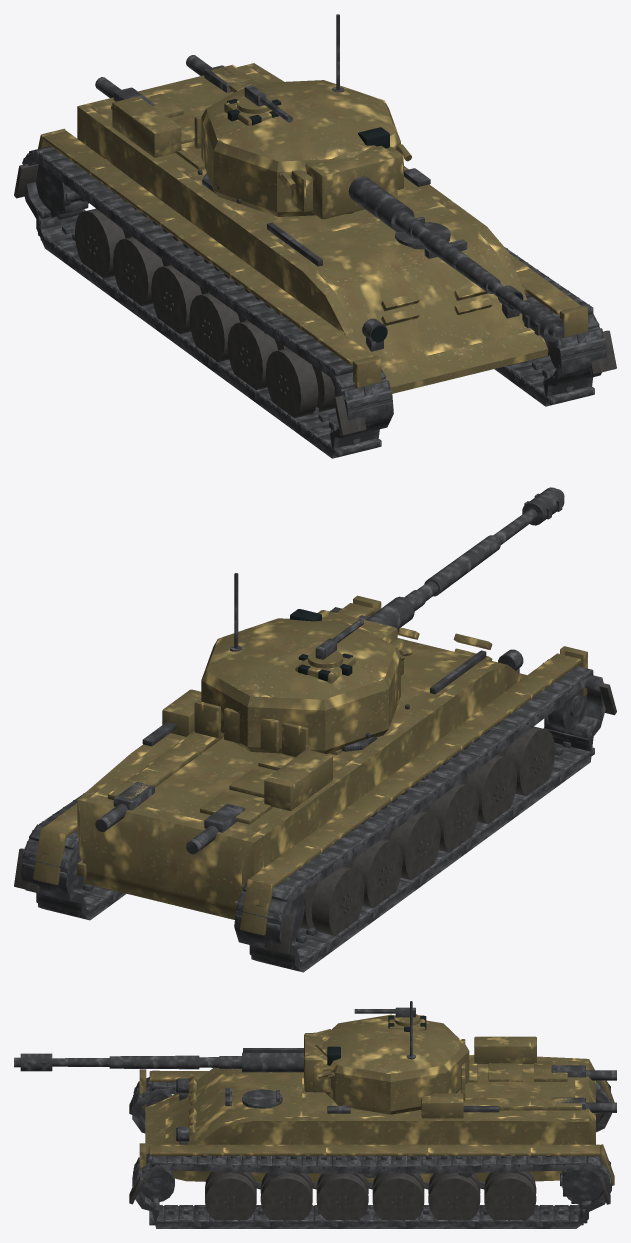
The picture shows the model from 3 angles, top to bottom: view 1: azimuth 30°, elevation 25°; view 2: azimuth 150°, elevation 25°; view 3: azimuth 270°, elevation 25°; orthographic projection. The views are drawn at different scales.
Parts seen in each view (by area): view 1: mt, mt_hull_details, mt_turret, mt_link1, mt_track1, mt_turret_armor, mt_gun, mt_wheel1_5, mt_hull_metal, mt_link-1, mt_track-1, mt_wheel1_4 (+10 smaller); view 2: mt, mt_hull_details, mt_turret, mt_link1, mt_track1, mt_turret_armor, mt_hull_metal, mt_gun, mt_wheel1_0, mt_wheel1_1, mt_wheel1_5, mt_wheel1_2 (+9 smaller); view 3: mt, mt_hull_details, mt_turret, mt_link-1, mt_track-1, mt_gun, mt_hull_metal, mt_wheel-1_0, mt_wheel-1_5, mt_wheel-1_2, mt_wheel-1_3, mt_wheel-1_1 (+11 smaller).
Boxes of the visible parts, left/top/right/bottom form: mt: left=77, top=63, right=548, bottom=393; mt_hull_details: left=38, top=64, right=587, bottom=387; mt_turret: left=201, top=80, right=400, bottom=216; mt_link1: left=22, top=146, right=392, bottom=457; mt_track1: left=22, top=152, right=393, bottom=458; mt_turret_armor: left=194, top=96, right=411, bottom=219; mt_gun: left=348, top=176, right=528, bottom=314; mt_wheel1_5: left=265, top=348, right=334, bottom=417; mt_hull_metal: left=95, top=55, right=467, bottom=266; mt_link-1: left=503, top=247, right=606, bottom=405; mt_track-1: left=494, top=251, right=606, bottom=406; mt_wheel1_4: left=227, top=320, right=287, bottom=389; mt: left=77, top=638, right=526, bottom=919; mt_hull_details: left=33, top=595, right=587, bottom=935; mt_turret: left=201, top=618, right=400, bottom=754; mt_link1: left=235, top=659, right=604, bottom=970; mt_track1: left=234, top=673, right=605, bottom=972; mt_turret_armor: left=194, top=610, right=411, bottom=756; mt_hull_metal: left=95, top=615, right=486, bottom=854; mt_gun: left=366, top=509, right=537, bottom=629; mt_wheel1_0: left=301, top=866, right=364, bottom=935; mt_wheel1_1: left=343, top=838, right=402, bottom=907; mt_wheel1_5: left=497, top=726, right=555, bottom=796; mt_wheel1_2: left=382, top=811, right=440, bottom=879; mt: left=145, top=1055, right=595, bottom=1182; mt_hull_details: left=139, top=1036, right=614, bottom=1185; mt_turret: left=315, top=1014, right=469, bottom=1114; mt_link-1: left=133, top=1153, right=610, bottom=1225; mt_track-1: left=132, top=1155, right=611, bottom=1228; mt_gun: left=52, top=1052, right=303, bottom=1072; mt_hull_metal: left=225, top=1048, right=616, bottom=1113; mt_wheel-1_0: left=484, top=1171, right=536, bottom=1221; mt_wheel-1_5: left=205, top=1171, right=256, bottom=1221; mt_wheel-1_2: left=372, top=1173, right=424, bottom=1221; mt_wheel-1_3: left=316, top=1173, right=368, bottom=1221; mt_wheel-1_1: left=428, top=1172, right=480, bottom=1221.
Size of the model in its own units: 340 by 322 by 883.
